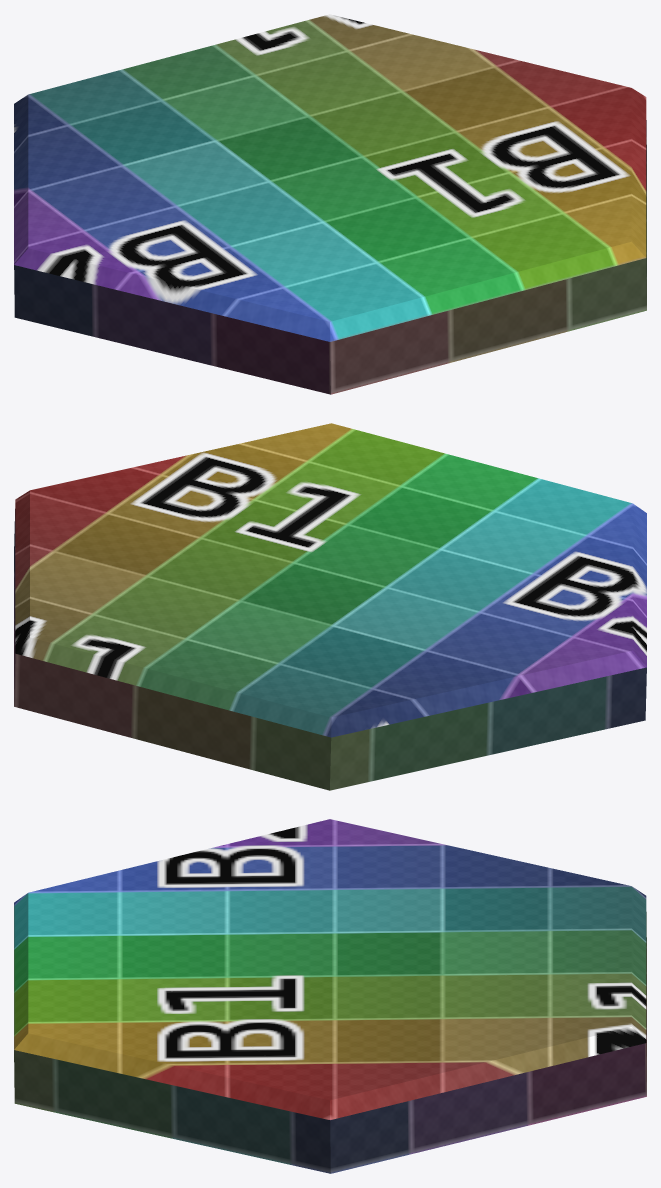
Rendered from hexagon.gltf.
3 views of the same model, one above another, from view 1: azimuth 30°, elevation 25°; view 2: azimuth 150°, elevation 25°; view 3: azimuth 270°, elevation 25° (orthographic).
Parts seen in each view (by area): view 1: Hexagon; view 2: Hexagon; view 3: Hexagon.
Boxes of the visible parts, box(x1,y1,x2,y2) form: Hexagon: box(14, 14, 646, 394); Hexagon: box(14, 423, 646, 790); Hexagon: box(14, 819, 646, 1173).
Size of the model in its own units: 2 by 0.2408 by 1.73.
1 material, 1 textured.
